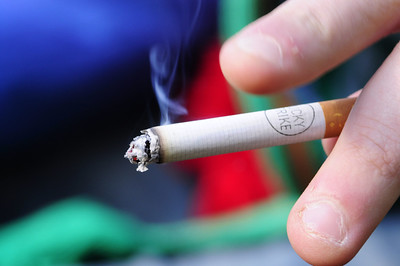cigarette: (122, 94, 373, 177)
